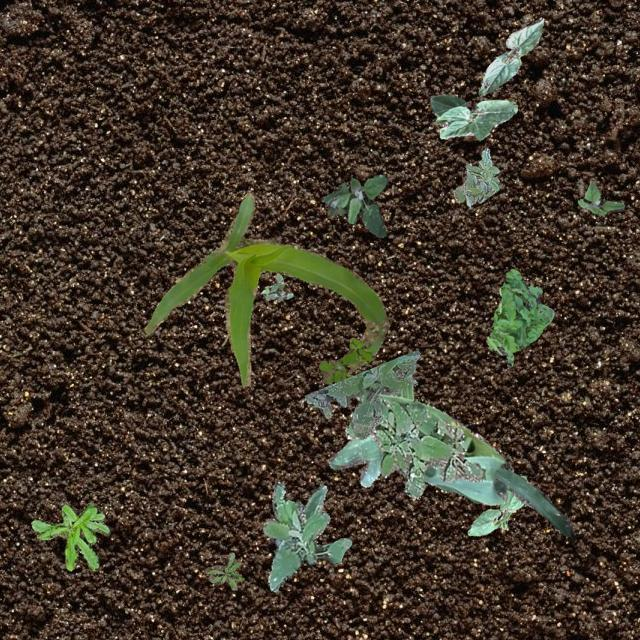crop: (144, 192, 388, 386), (328, 384, 574, 540), (478, 16, 544, 96), (429, 94, 516, 140), (467, 488, 522, 534)
weed: (344, 390, 482, 498), (304, 349, 419, 438), (262, 482, 350, 590), (484, 268, 552, 366), (30, 502, 110, 570), (321, 174, 386, 236), (452, 147, 498, 205), (318, 337, 372, 382), (576, 182, 624, 214), (204, 552, 242, 588), (260, 272, 292, 300)
